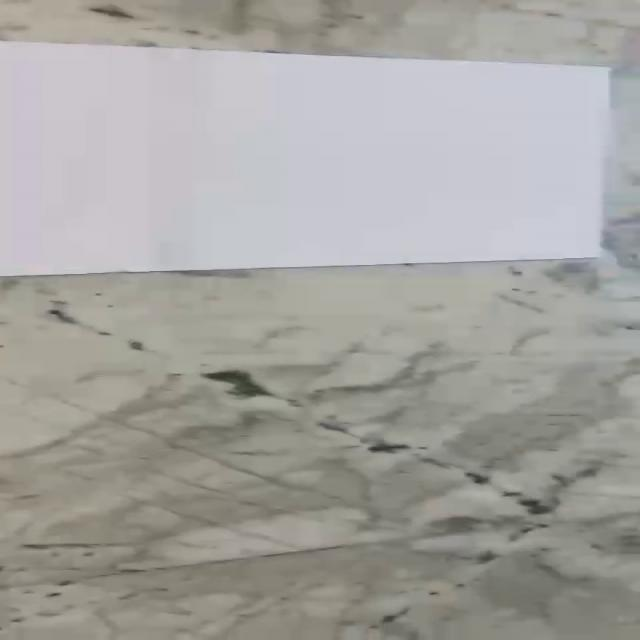road: (0, 41, 612, 278)
